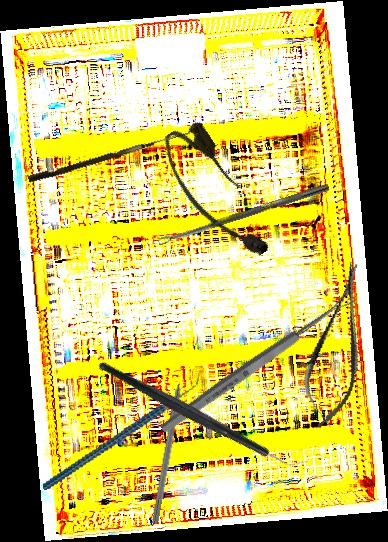Cannula: (153, 116, 278, 272)
Chopper: (97, 303, 310, 525), (24, 369, 221, 491)
Hook Surgical: (27, 124, 191, 186), (151, 364, 188, 525)
Micro Scissor: (293, 256, 383, 435)
Surgical Spoon: (158, 290, 357, 436), (157, 182, 330, 246)
